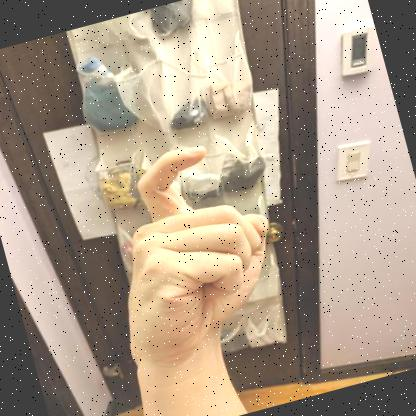X: (128, 145, 268, 367)
